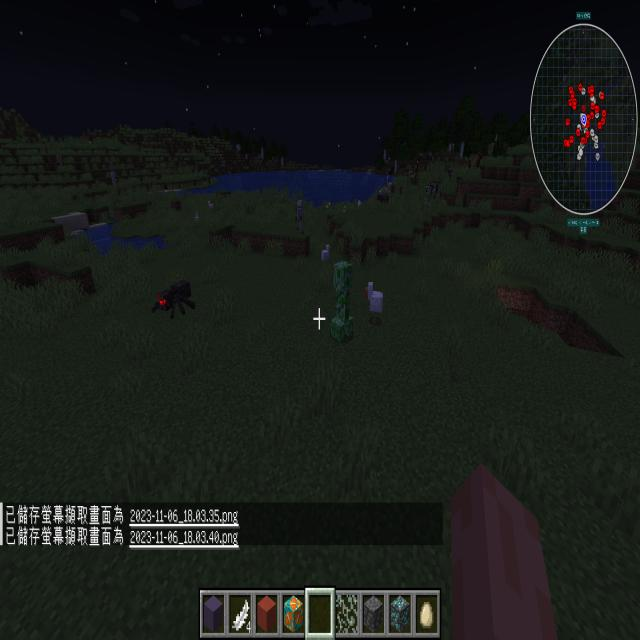Creeper: (328, 258, 355, 347), (423, 184, 432, 209)
Skeleton: (294, 198, 305, 232), (56, 150, 65, 176), (385, 174, 390, 190)
Spider: (150, 276, 197, 322), (375, 193, 391, 208), (403, 168, 408, 174)
chicken: (362, 278, 386, 323), (320, 244, 331, 268), (191, 210, 201, 229), (206, 198, 215, 212)
cow: (427, 182, 439, 200), (446, 167, 454, 182)
